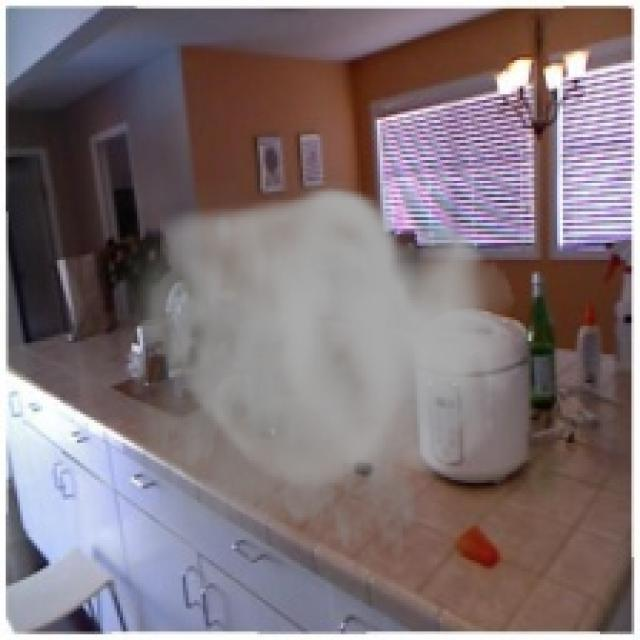Smoke: (106, 180, 520, 597)
